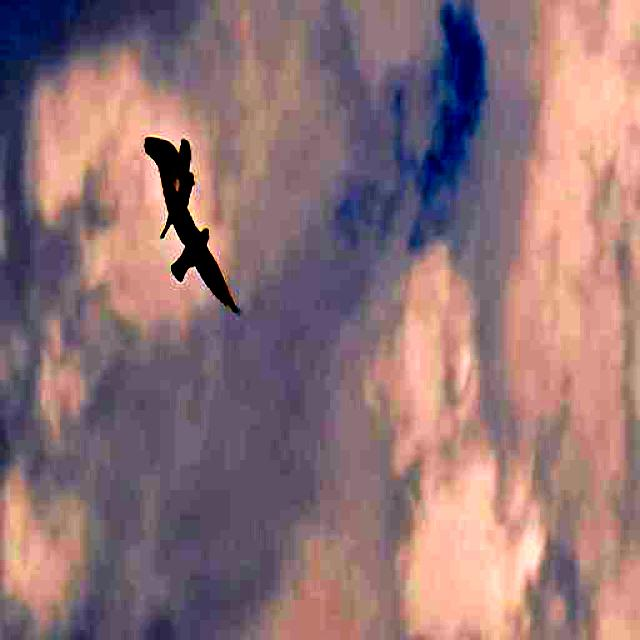airplane: (154, 170, 246, 331), (140, 118, 199, 234)
